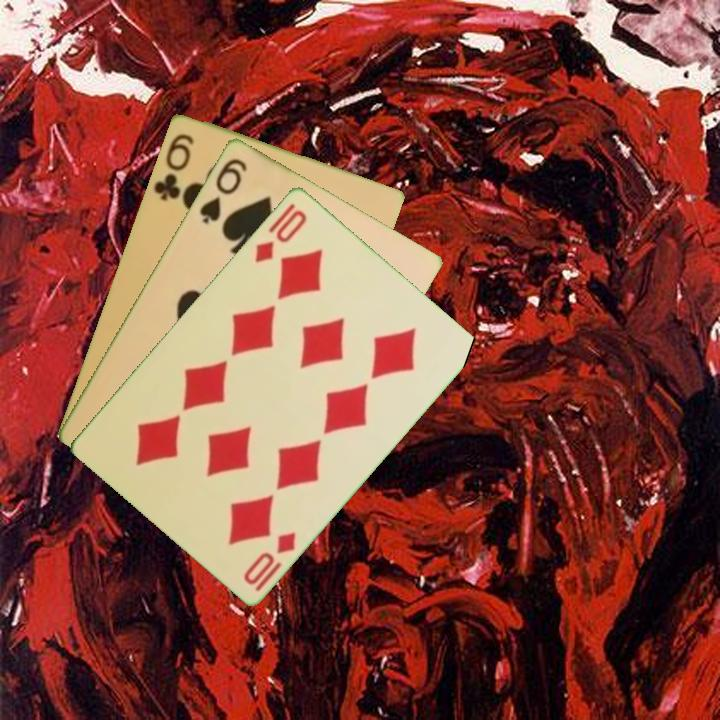10d: (239, 528, 299, 594), (251, 205, 310, 265)
6c: (149, 129, 196, 203)
6s: (195, 154, 250, 226)
